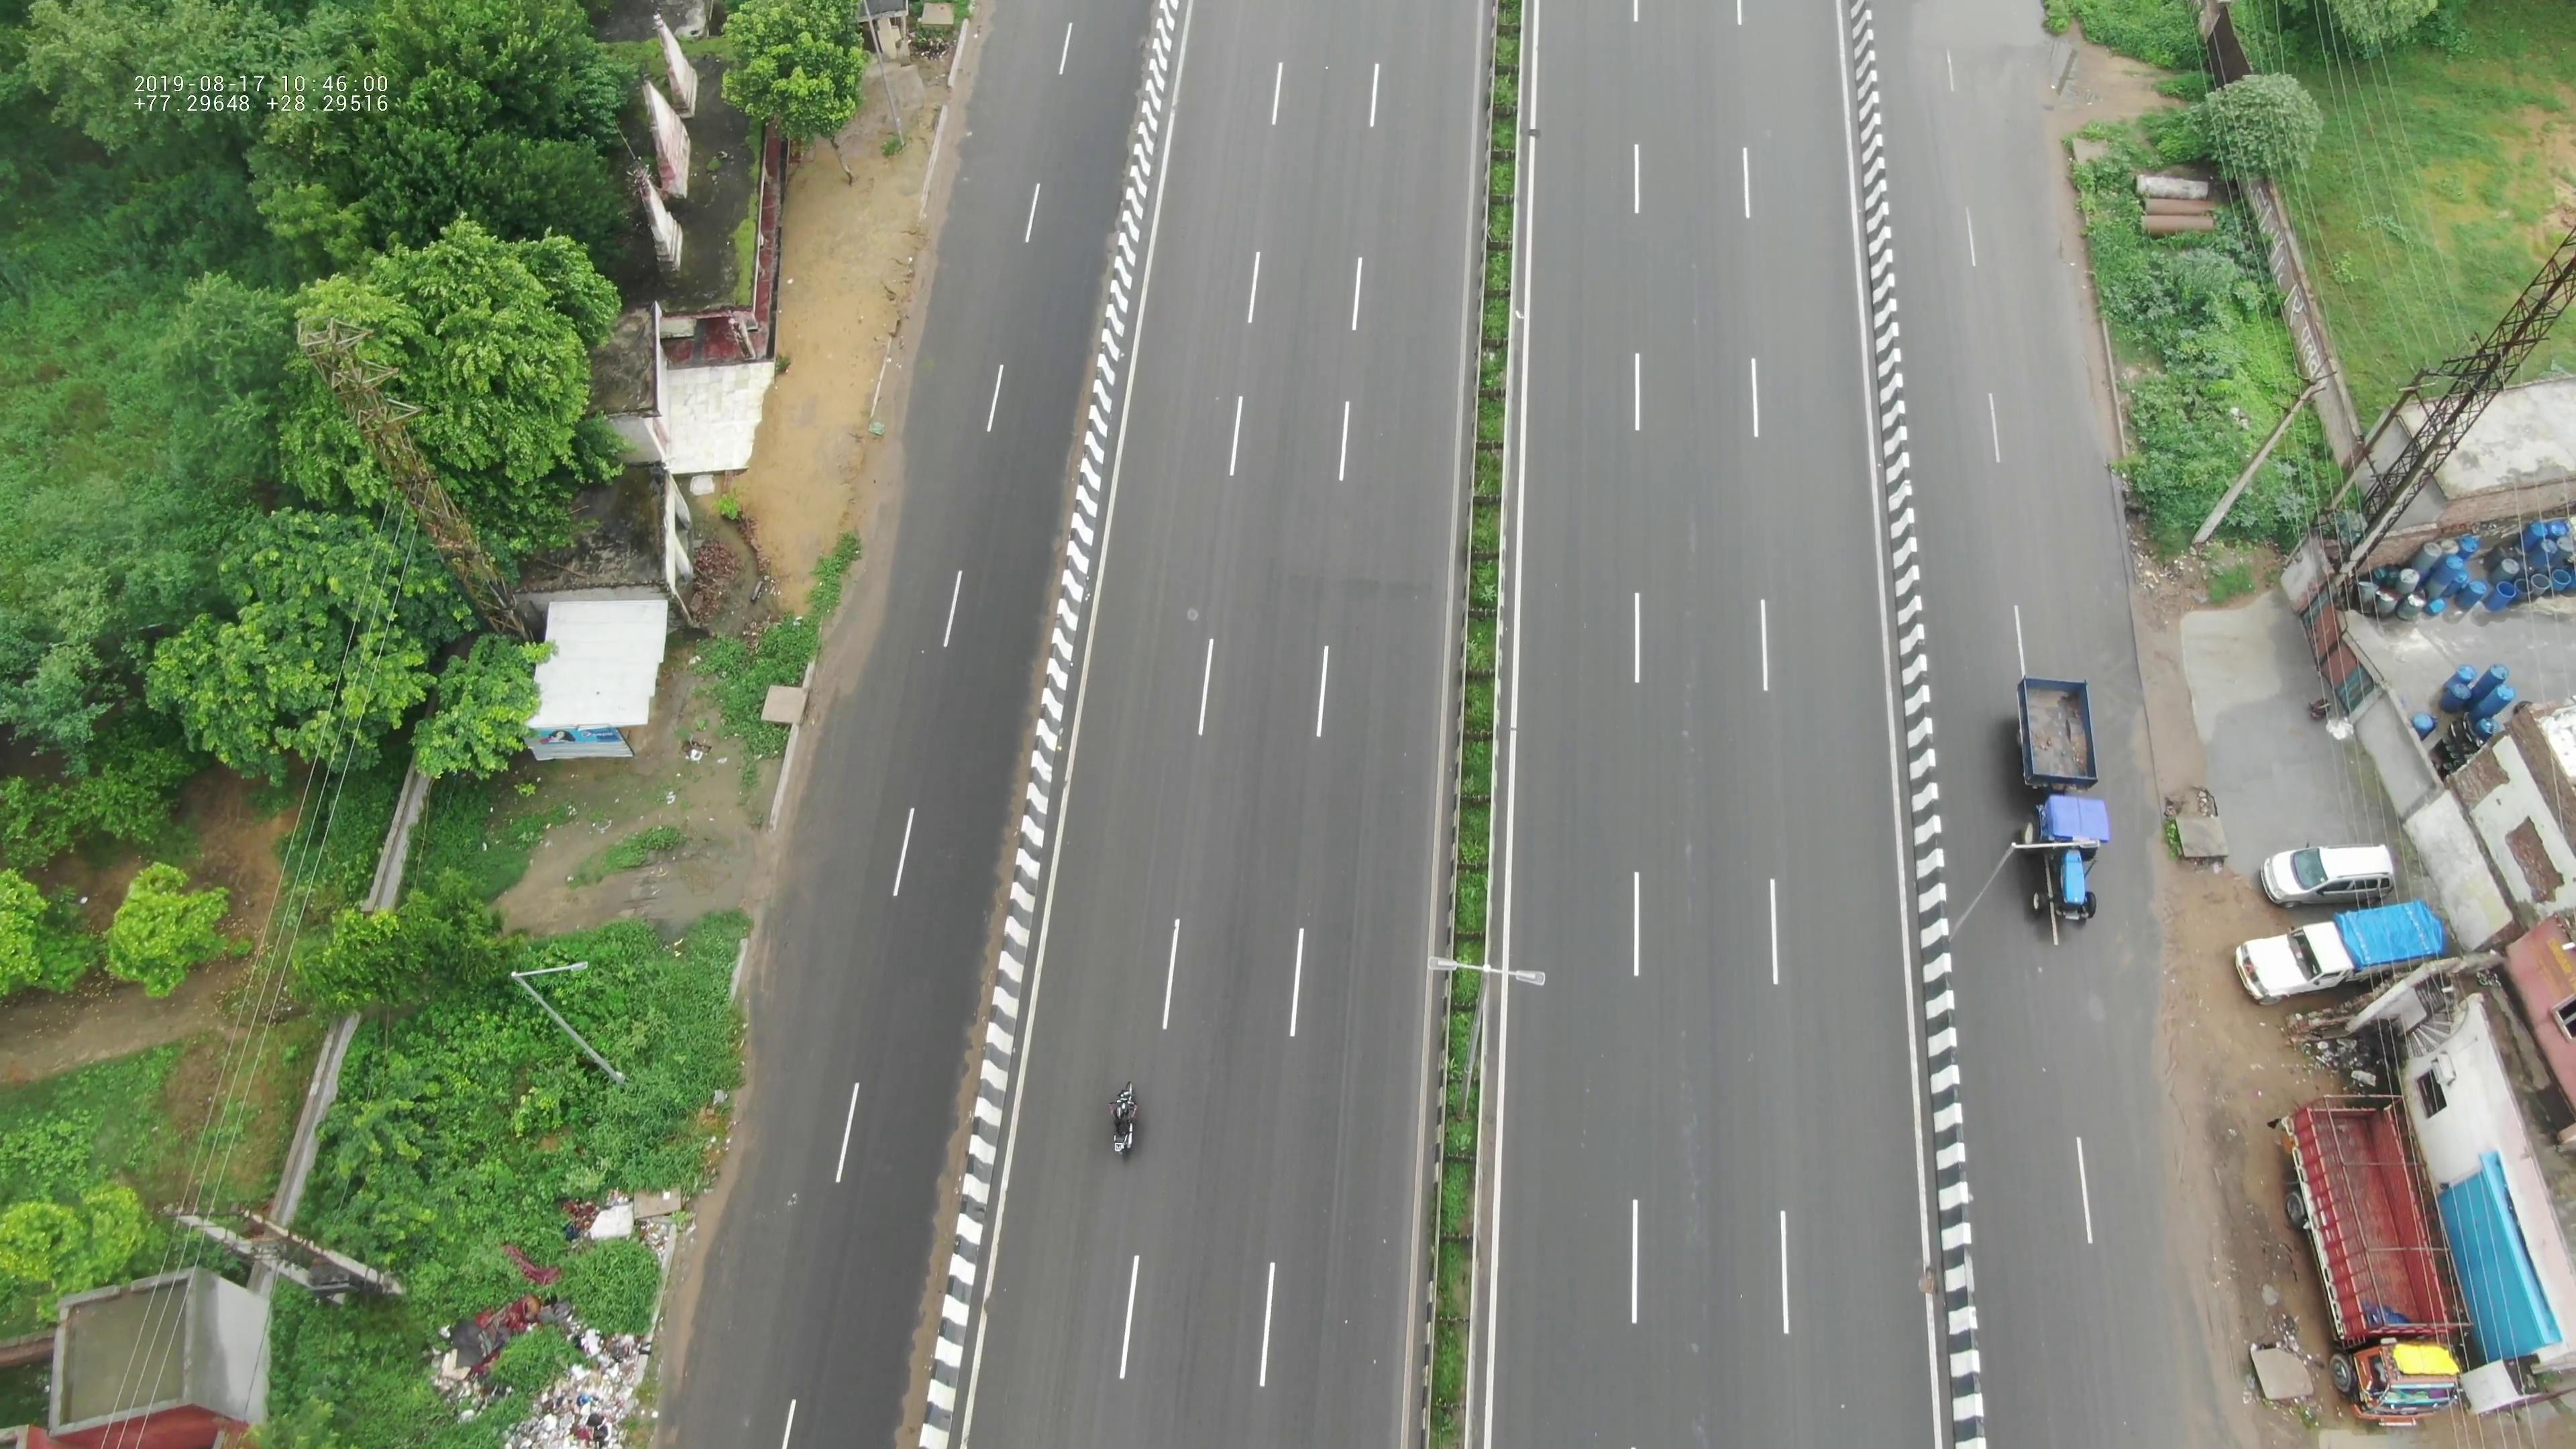Muddy_road: (823, 412, 916, 683)
Road_side_garbage: (508, 1327, 644, 1445)
